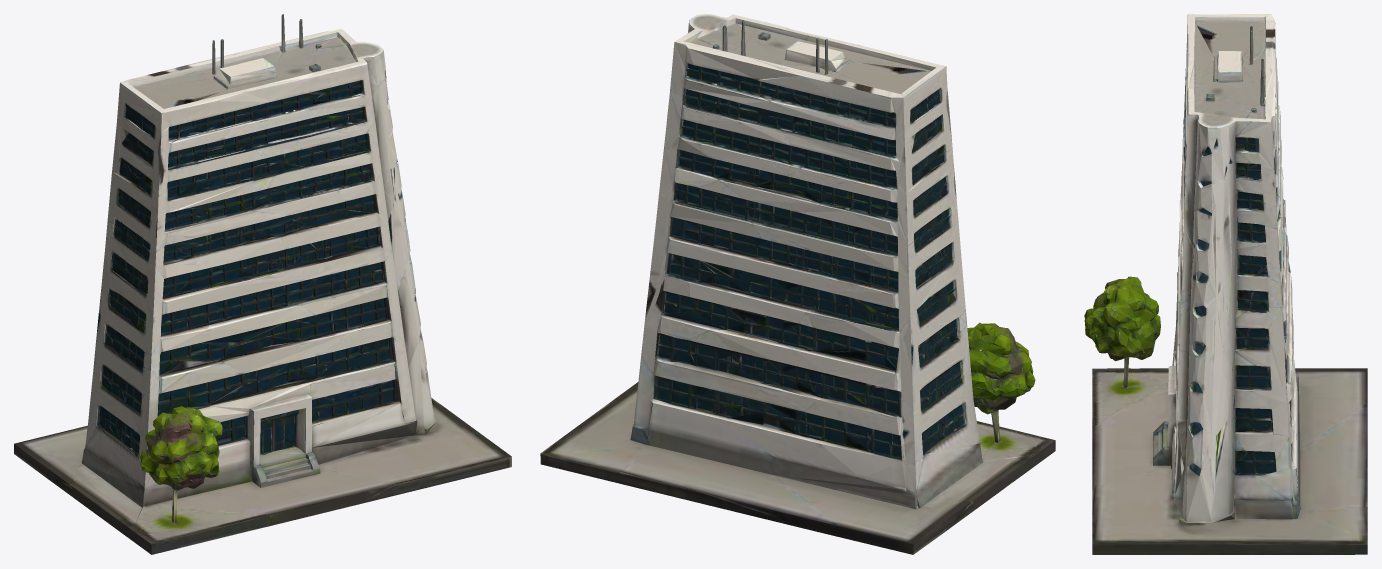
The model's file is town_offices_1423.glb.
3 renders of one model, left to right at view 1: azimuth 30°, elevation 25°; view 2: azimuth 150°, elevation 25°; view 3: azimuth 270°, elevation 25°, orthographic. The views are drawn at different scales.
Parts seen in each view (by area): view 1: normalize; view 2: normalize; view 3: normalize.
Part boxes in pixels (x1,y1,x2,y2): normalize: (14,14,511,554); normalize: (540,14,1055,554); normalize: (1084,14,1367,554).
Size of the model in its own units: 1 by 1.14 by 0.6811.
1 material, 1 textured.
